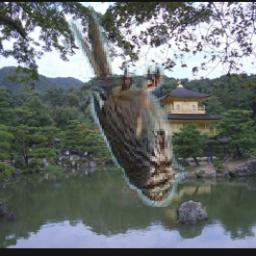Sparrow: (68, 13, 184, 207)
